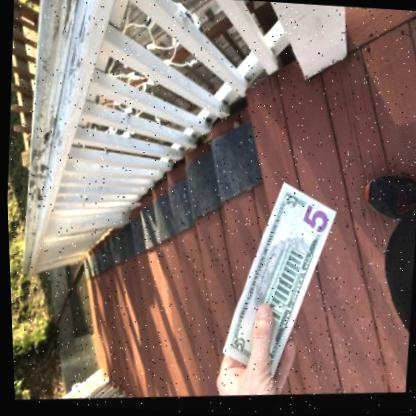five-back: (222, 186, 336, 384)
